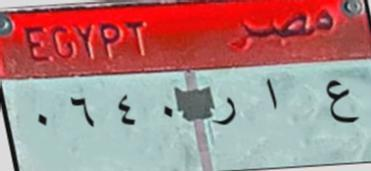0: (31, 106, 57, 132), (158, 100, 178, 128)
4: (114, 88, 138, 130)
6: (64, 91, 100, 132)
ain: (315, 76, 360, 129)
alif: (258, 75, 286, 116)
raa: (210, 91, 240, 132)
